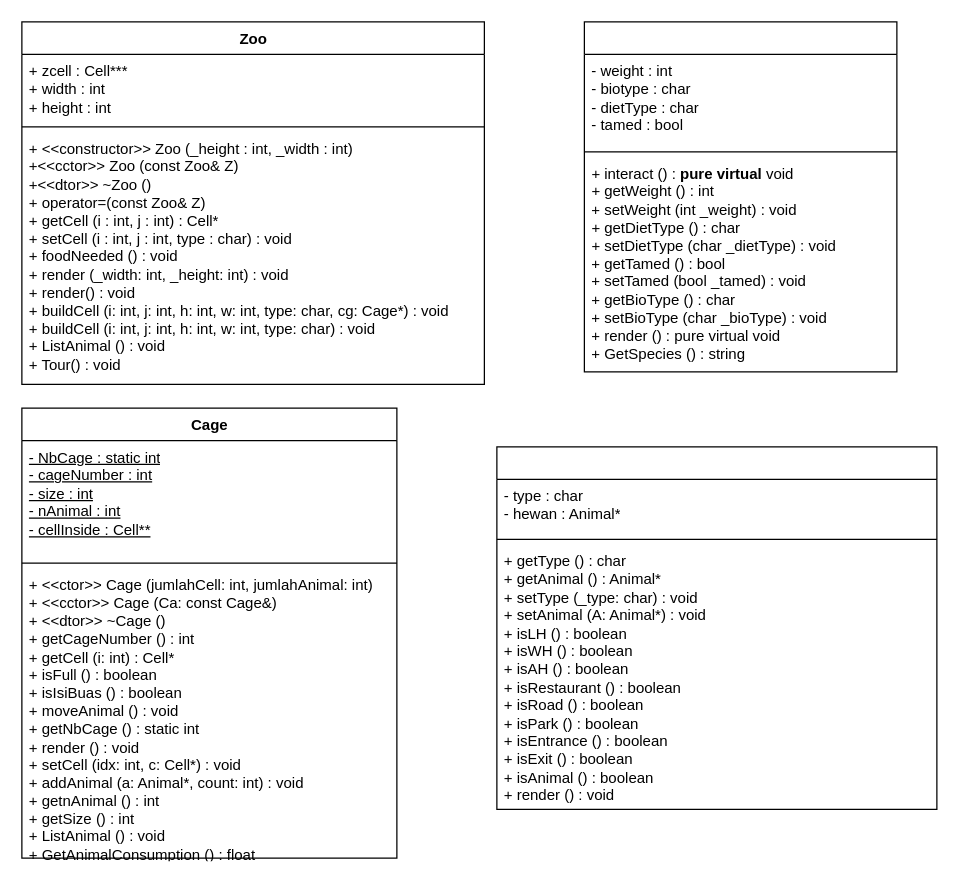
This 959x884 diagram has some shape labels left out. The shapes that lost their labels are listed below. From the top down, each one's box as (x1, y1, x2, y2) in pixels, then its label:
(583, 21, 897, 372): Animal
(496, 446, 937, 809): Cell
